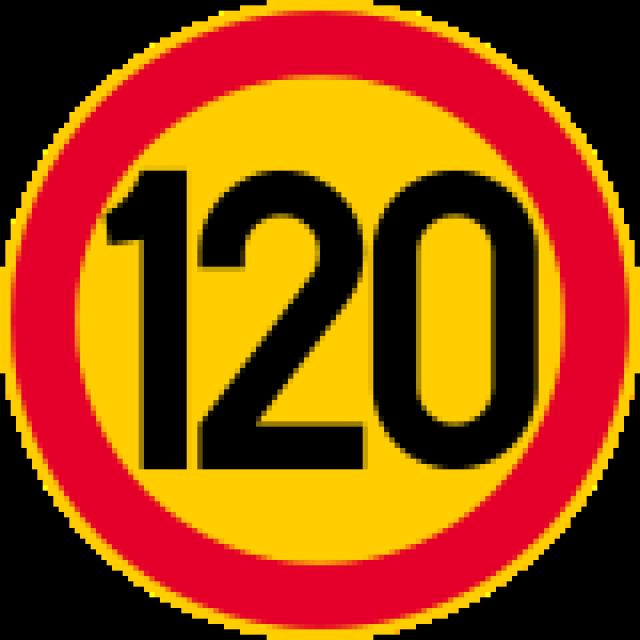Speed Limit -120-: (103, 165, 543, 469)
